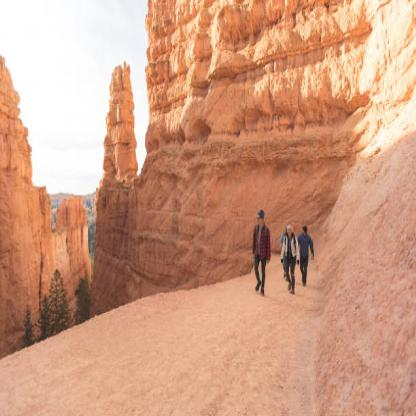Sedimentary_Sandstone: (145, 2, 401, 178), (2, 53, 46, 356), (99, 62, 142, 186), (55, 194, 90, 305)
